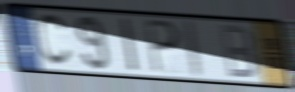9: (73, 14, 111, 72)
B: (218, 23, 260, 82)
C: (35, 13, 73, 69)
I: (118, 15, 141, 74), (184, 18, 205, 81)
P: (143, 18, 182, 75)
